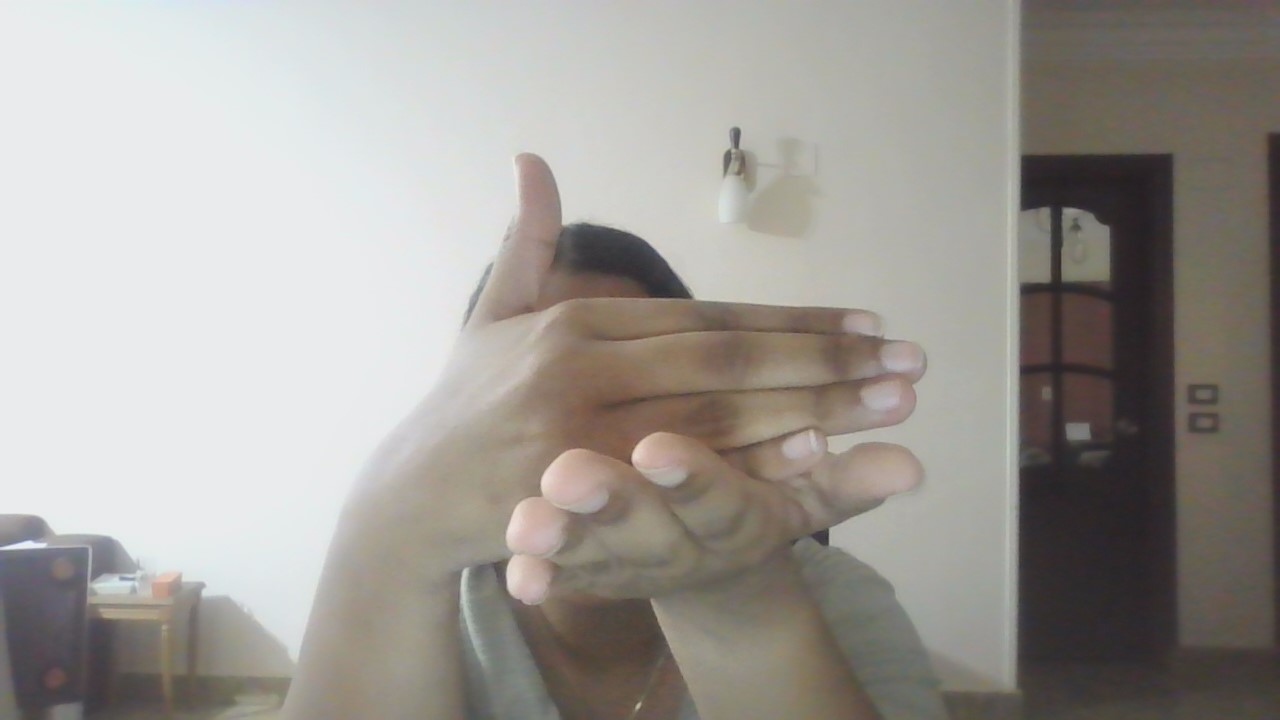stop: (335, 117, 961, 610)
